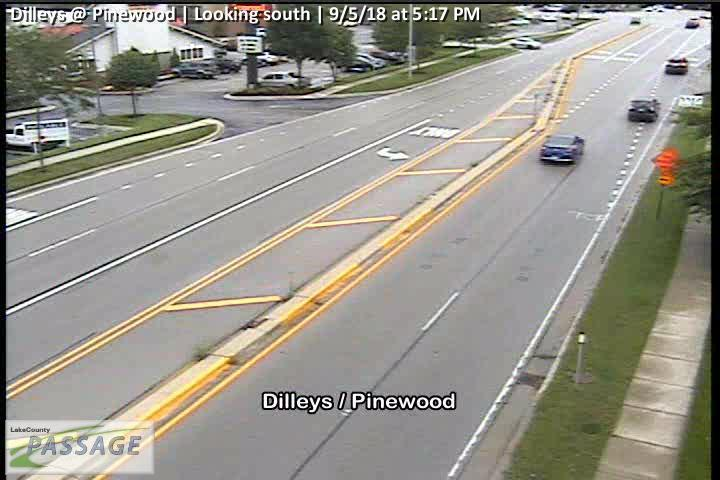SUV: (171, 59, 218, 77), (629, 96, 661, 122), (666, 57, 690, 74)
Sedan: (540, 134, 585, 164), (205, 57, 241, 72), (332, 60, 373, 72), (349, 52, 383, 64), (509, 38, 542, 48), (686, 17, 700, 27), (632, 16, 641, 23)
Truck: (5, 119, 71, 149), (256, 72, 308, 90)
